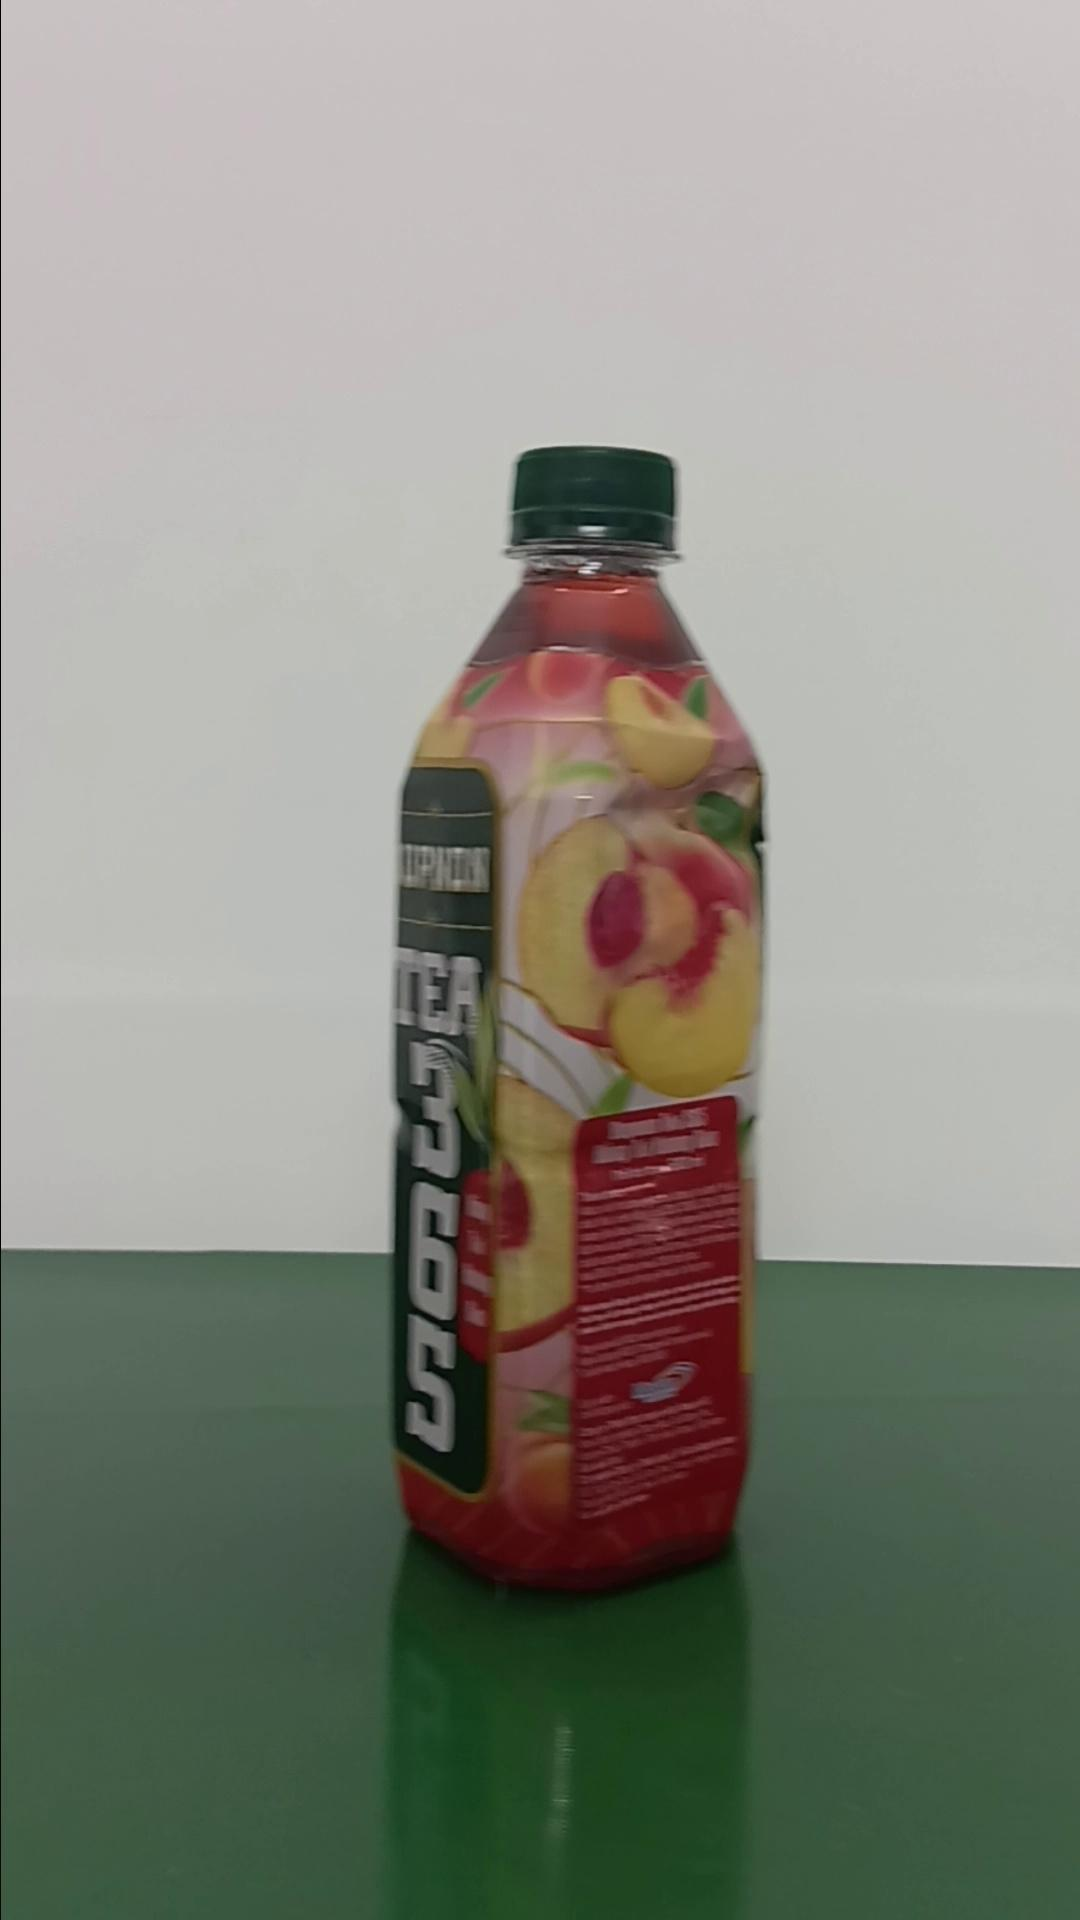loi meo sp: (386, 440, 769, 1593)
